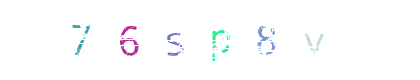6: (89, 0, 169, 80)
7: (88, 0, 168, 80)
8: (179, 0, 259, 80)
P: (170, 0, 250, 80)
S: (137, 0, 217, 80)
V: (196, 0, 276, 80)
